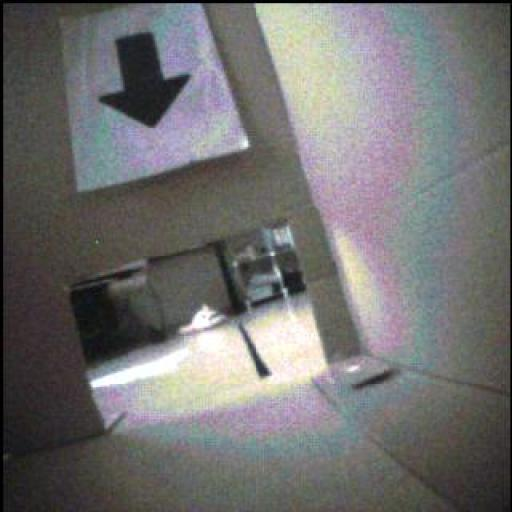arrow: (101, 35, 192, 129)
